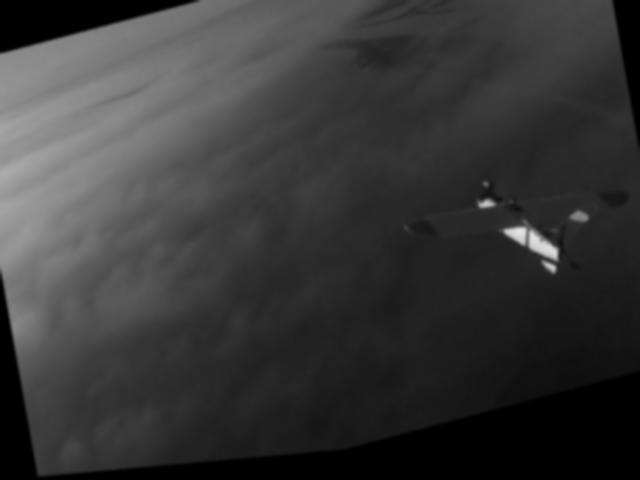hedef: (392, 158, 640, 331)
